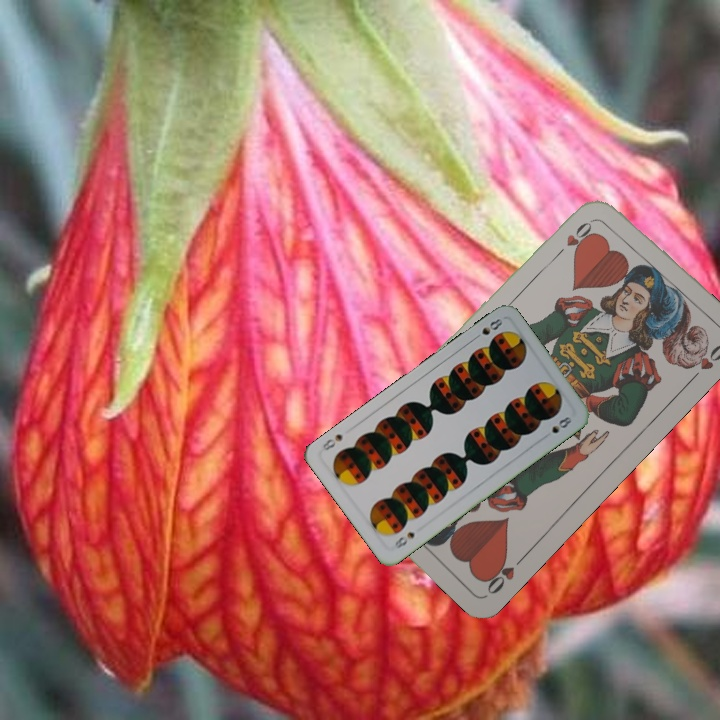HO: (479, 551, 529, 597), (550, 215, 597, 261)
S8: (469, 313, 505, 343), (391, 528, 418, 551)
